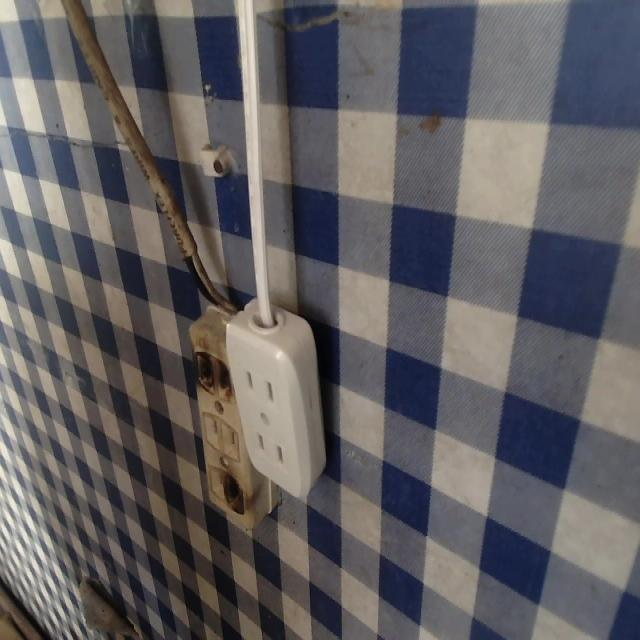-: (189, 348, 237, 396), (220, 468, 249, 523)
